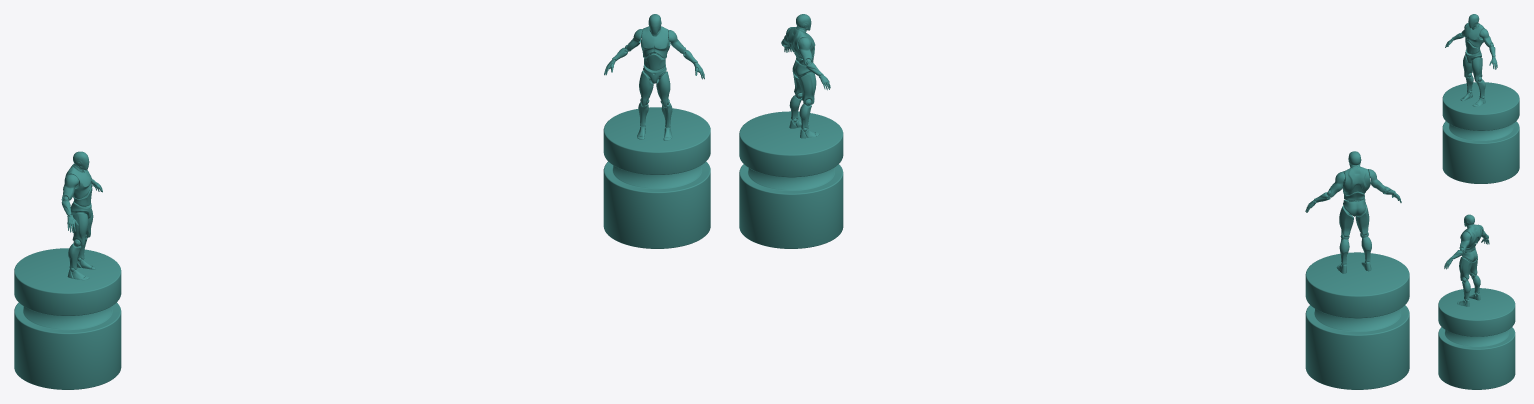
Rendered from Estatuas.fbx.
3 renders of one model, left to right at view 1: azimuth 30°, elevation 25°; view 2: azimuth 150°, elevation 25°; view 3: azimuth 270°, elevation 25°, orthographic. The views are drawn at different scales.
Visible parts, largest first — view 1: Cylinder.024, Cylinder.030, polySurface1712.001, polySurface1712.002; view 2: Cylinder.030, Cylinder.024, polySurface1712.002, polySurface1712.001; view 3: Cylinder.024, Cylinder.030, polySurface1712.002, polySurface1712.001.
Part boxes in pixels (box(x1,y1,x2,y2)): Cylinder.024: box(603, 107, 710, 248); Cylinder.030: box(14, 248, 121, 389); polySurface1712.001: box(604, 14, 704, 140); polySurface1712.002: box(61, 151, 102, 280); Cylinder.030: box(1305, 252, 1409, 389); Cylinder.024: box(739, 111, 843, 248); polySurface1712.002: box(1305, 151, 1401, 273); polySurface1712.001: box(781, 14, 830, 138); Cylinder.024: box(1438, 288, 1515, 389); Cylinder.030: box(1442, 82, 1519, 183); polySurface1712.002: box(1445, 14, 1497, 106); polySurface1712.001: box(1444, 214, 1489, 306).
Bounding box in the file's own units: 743 × 227 × 107.
